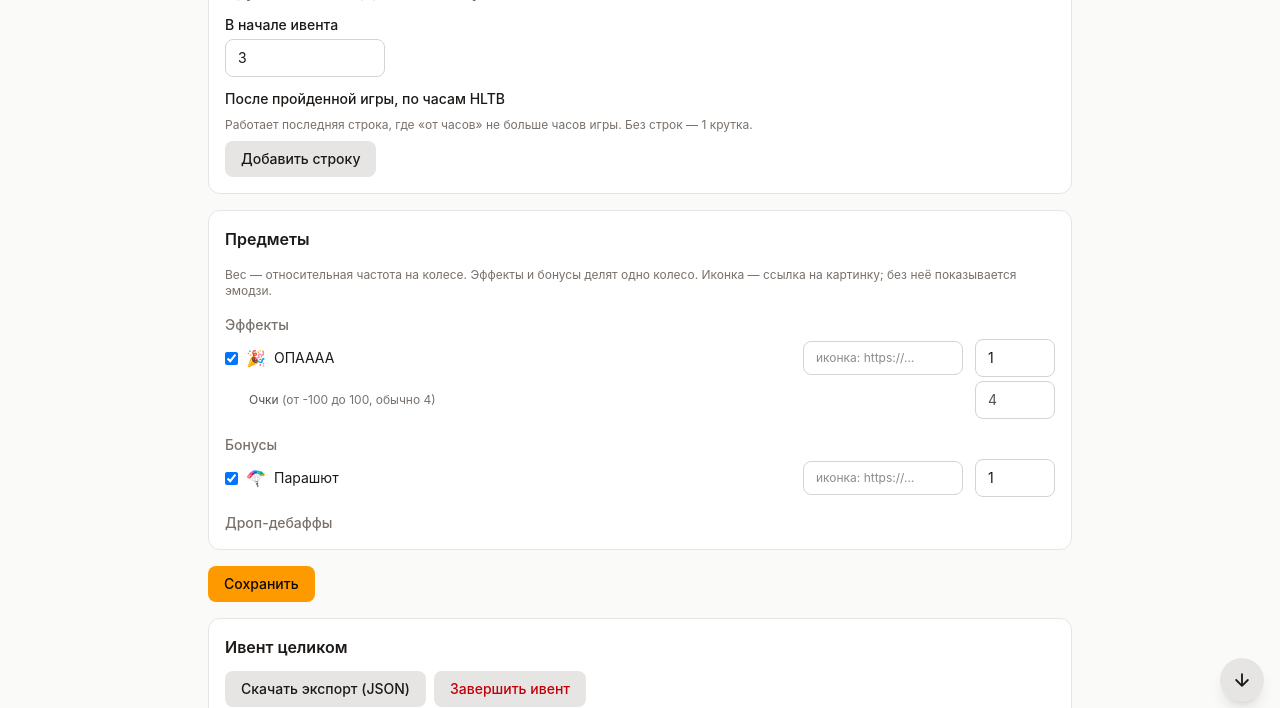
Test: events › saves item weights and switches from the settings tab
(page scrolled)
Replace the text in the number field named "Вес «ОПАААА»" with "5" at (1015, 358), box [975,339,1055,377]
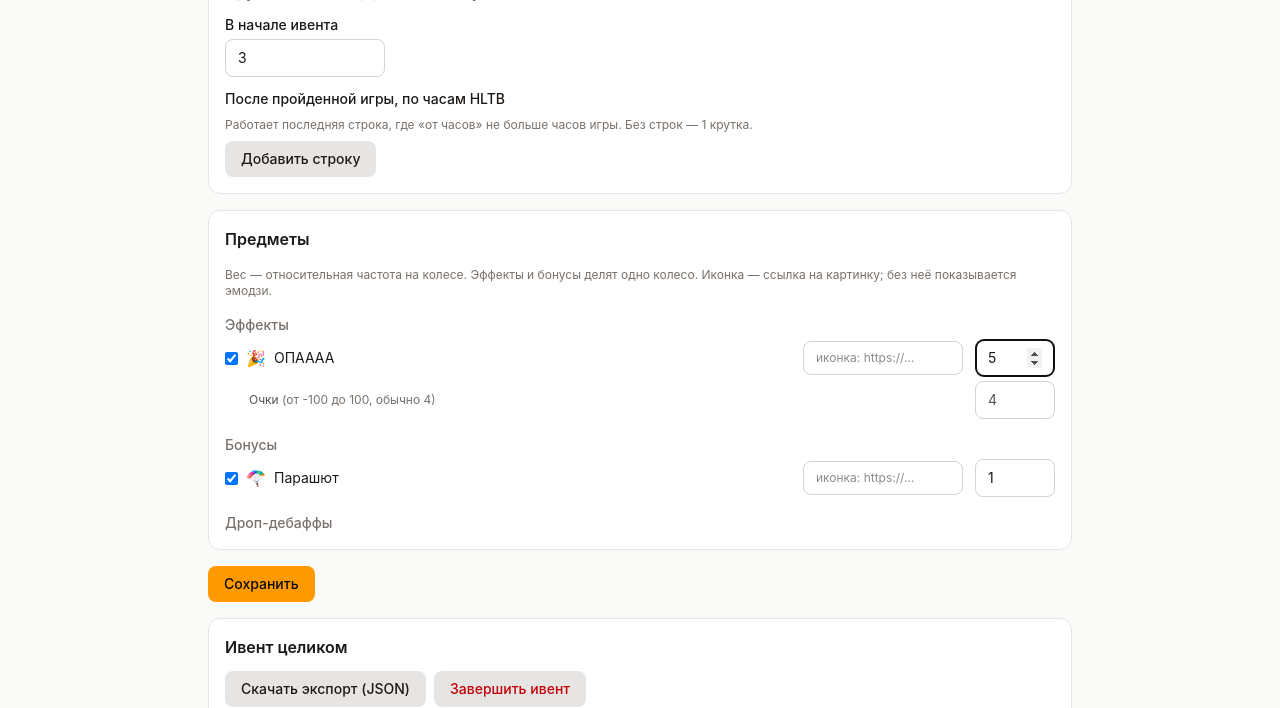
Replace the text in the number field labelled "Очки (от -100 до 100, обычно 4)" with "5" at (1015, 400), box [975,381,1055,419]
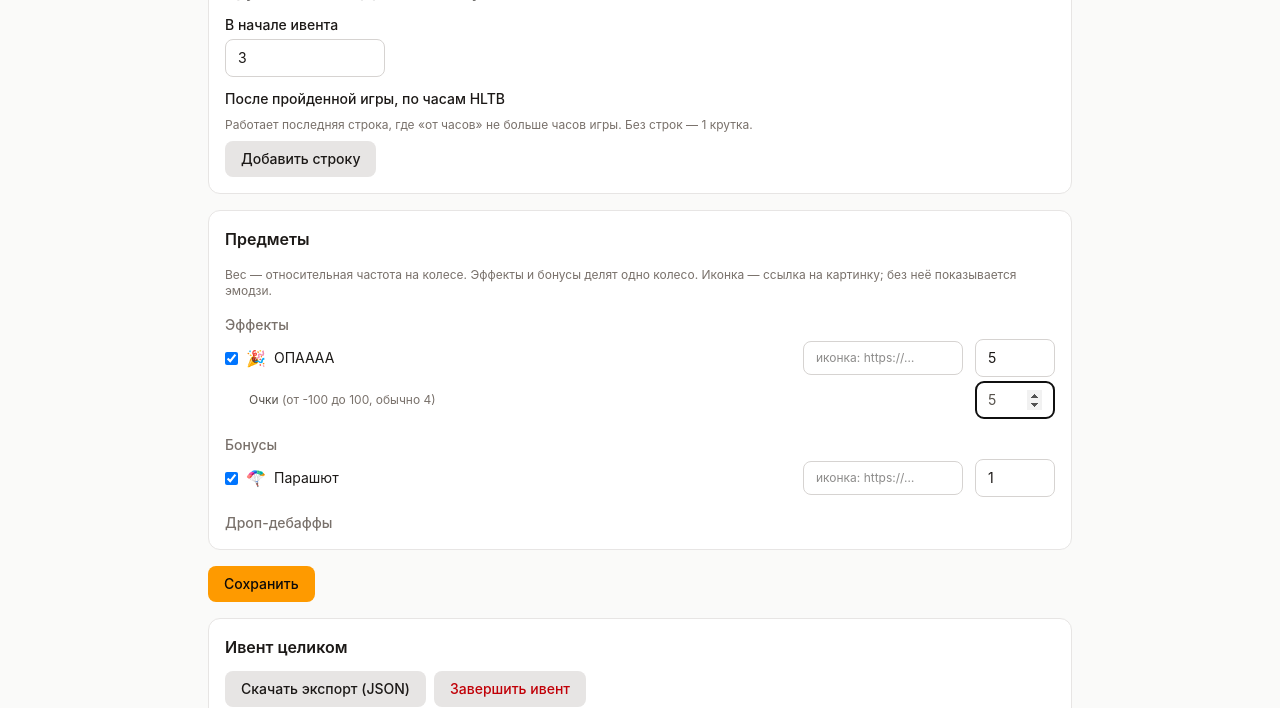
Click the checkbox labelled "Парашют" at (232, 478), box [225,472,238,484]
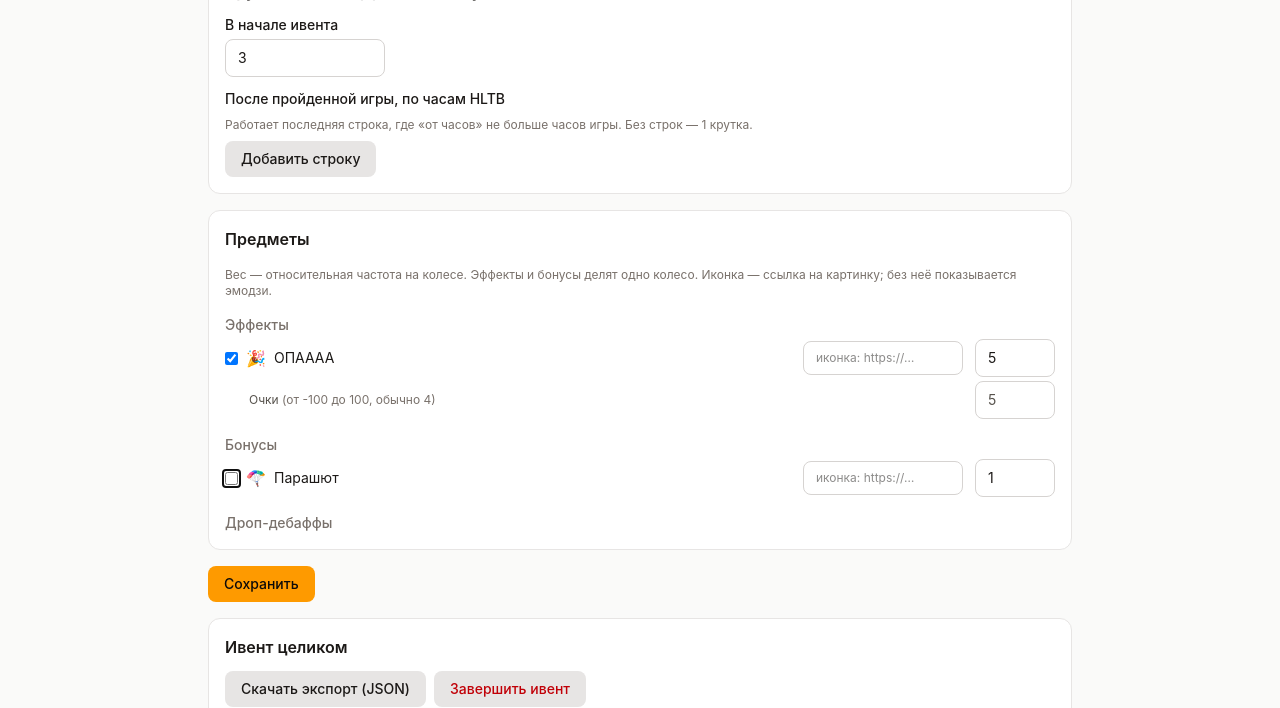
Click the button "Добавить строку" at (301, 159), box [225,141,376,177]
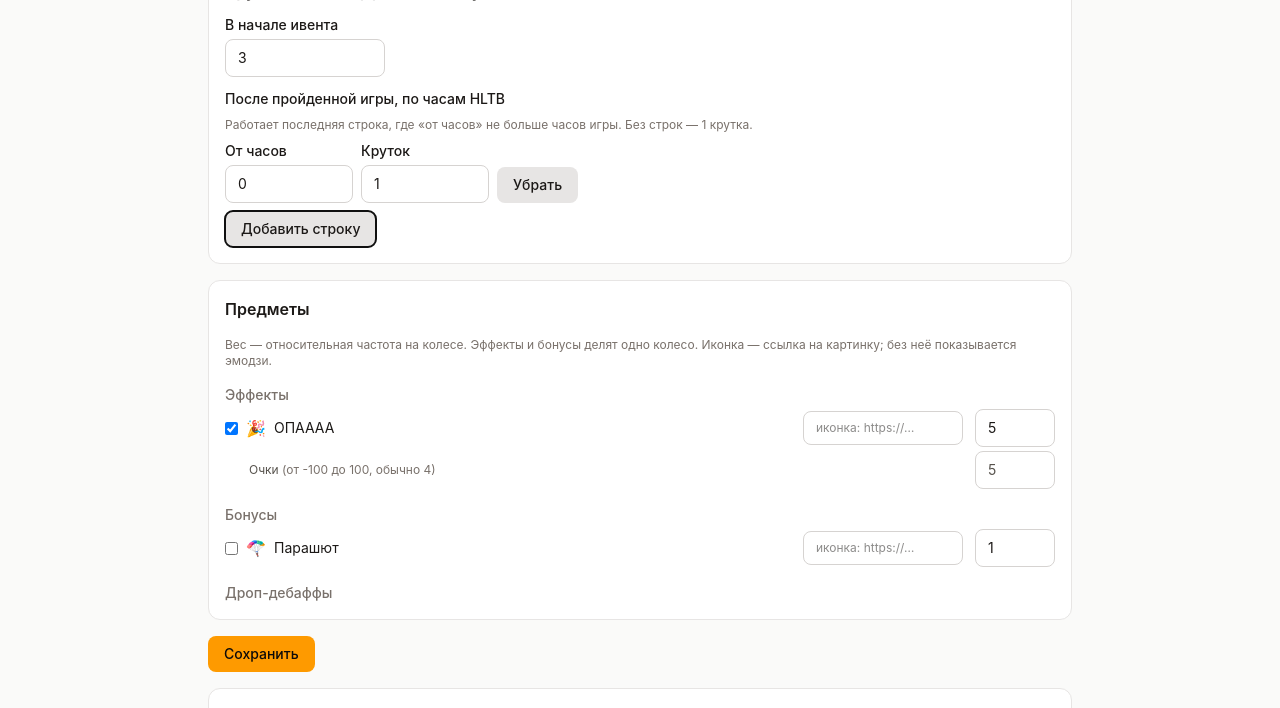
Click the button "Сохранить" at (261, 654), box [208,636,315,672]
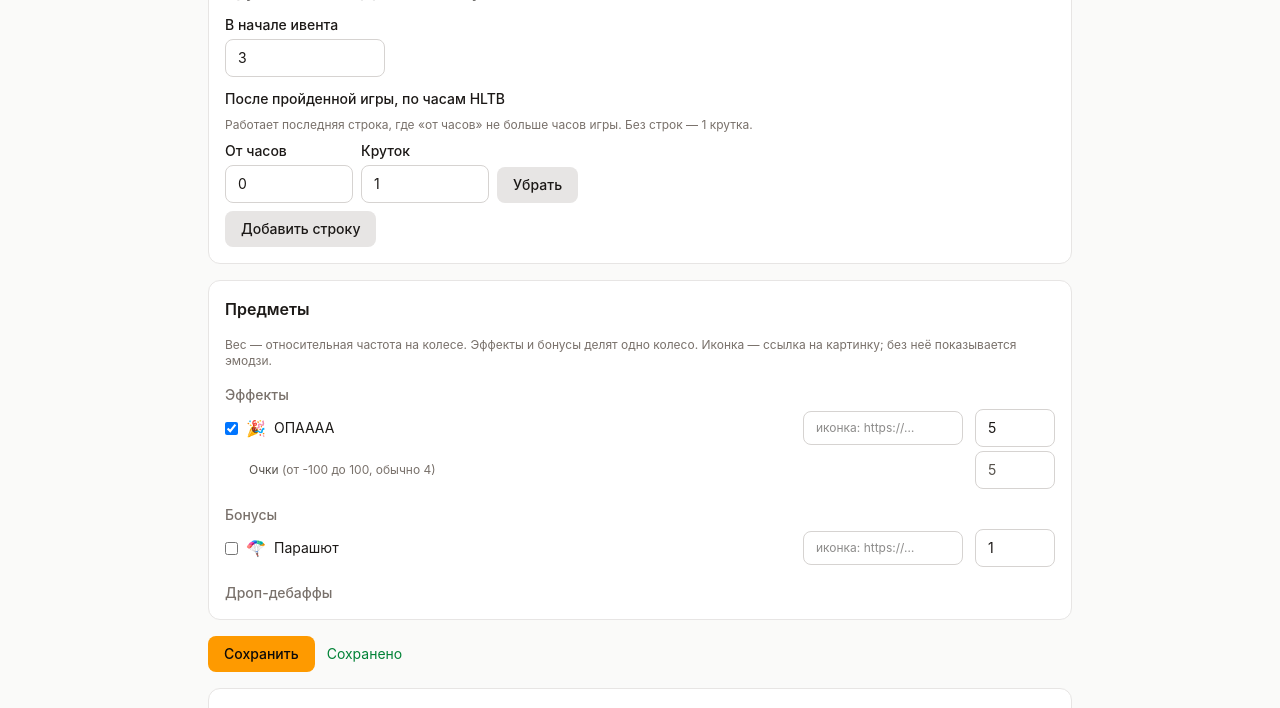
Now the text "Сохранено" is shown, box [327,644,402,664]
